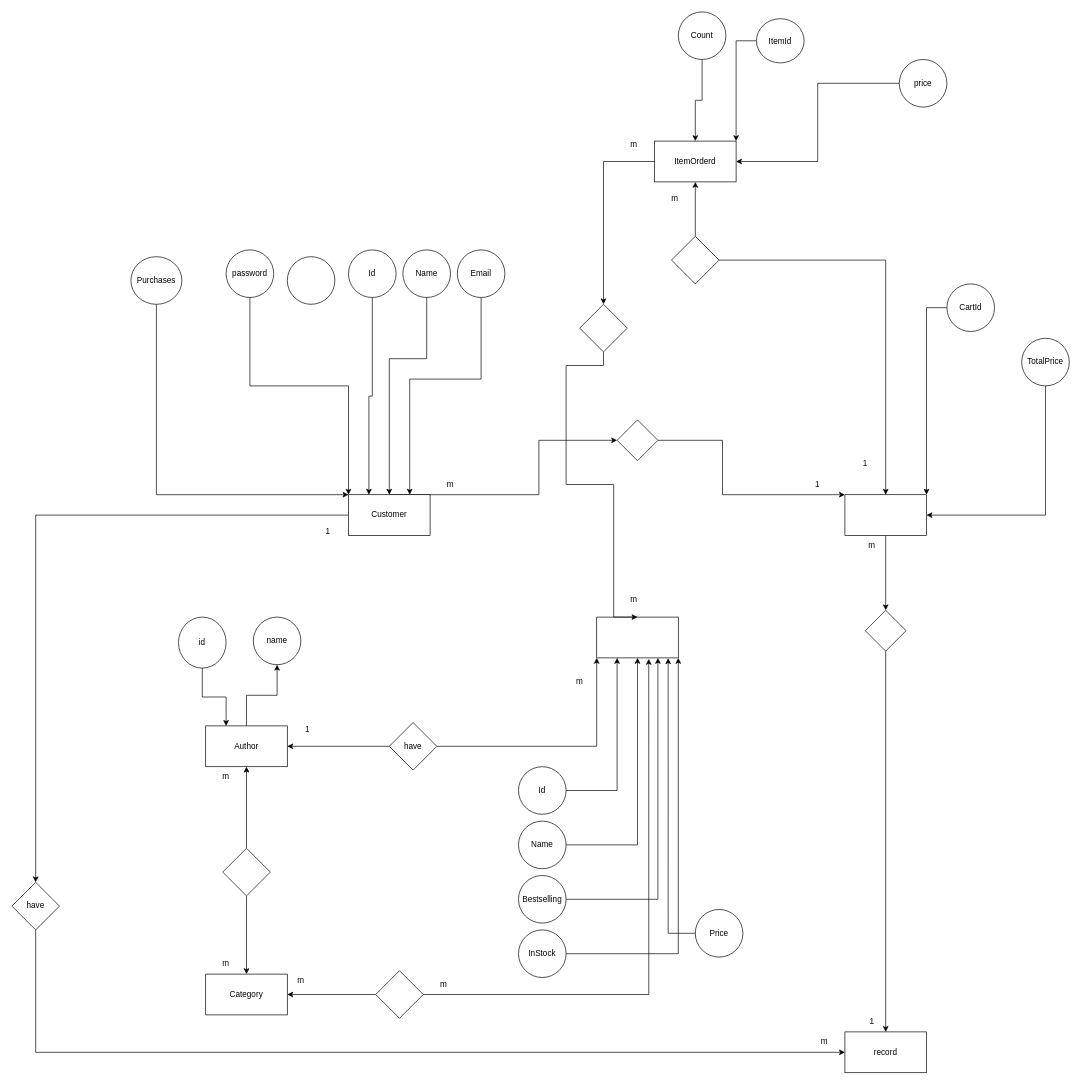
Some shapes in this 1081 by 1085 pixel diagram are drawn without their labels. Each missing label, with the box of its shape:
are: (579, 304, 627, 352)
Book: (596, 616, 678, 658)
Cart: (844, 494, 927, 536)
city: (287, 256, 335, 304)
has: (671, 236, 719, 284)
in: (375, 970, 423, 1018)
make: (616, 419, 658, 461)
recorded: (865, 610, 906, 651)
type: (222, 848, 270, 896)
